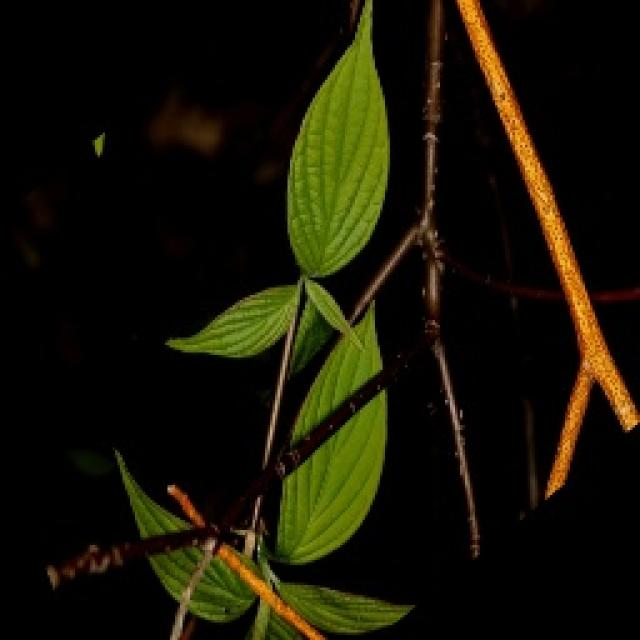Golden_canker: (429, 0, 640, 503), (134, 450, 347, 640)
